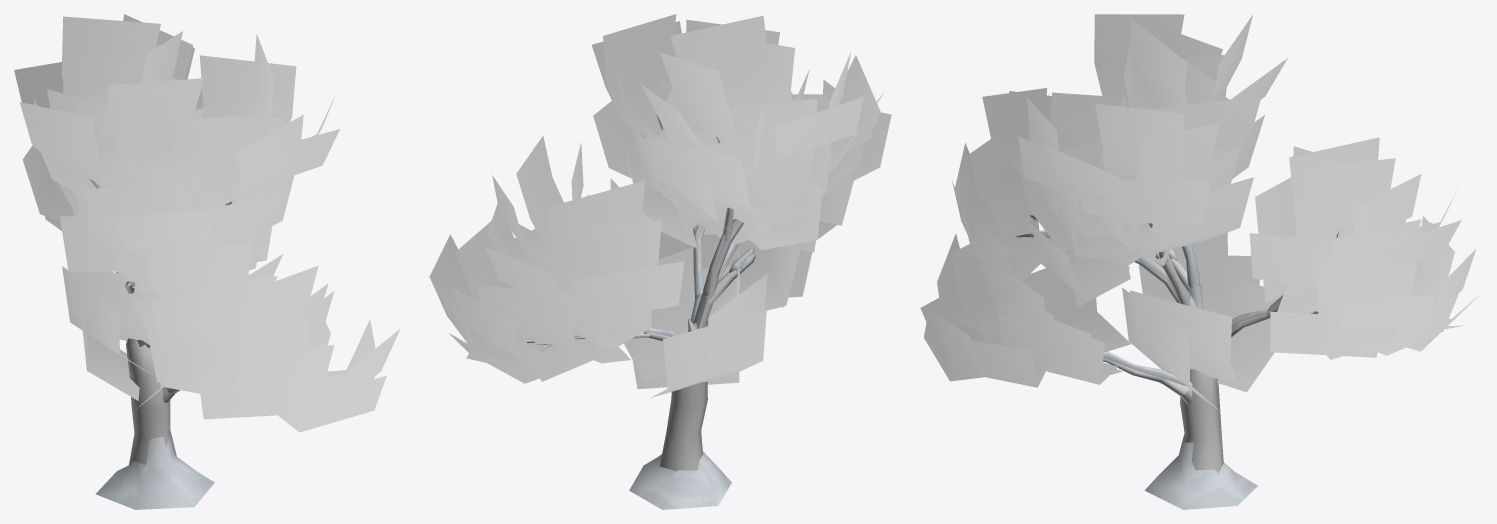
Rendered from Tree_Medium_1_Snow.fbx.
3 renders of one model, left to right at view 1: azimuth 30°, elevation 25°; view 2: azimuth 150°, elevation 25°; view 3: azimuth 270°, elevation 25°, orthographic. The views are drawn at different scales.
Visible parts, largest first — view 1: Tree_Medium_1_Snow_LOD0; view 2: Tree_Medium_1_Snow_LOD0; view 3: Tree_Medium_1_Snow_LOD0.
Part boxes in pixels (x1,y1,x2,y2): Tree_Medium_1_Snow_LOD0: [14, 14, 400, 509]; Tree_Medium_1_Snow_LOD0: [429, 14, 891, 509]; Tree_Medium_1_Snow_LOD0: [920, 14, 1480, 509].
Size of what is drawn, in the model's own units: 823 by 1158 by 1308.
